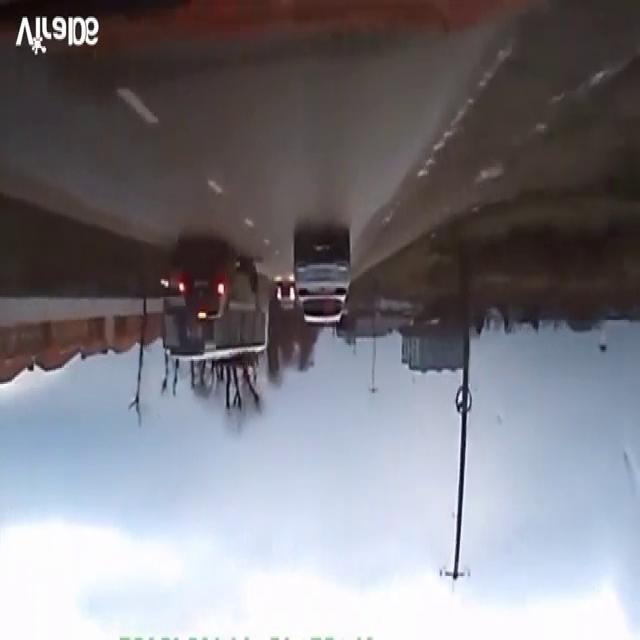moderate: (157, 237, 274, 377)
